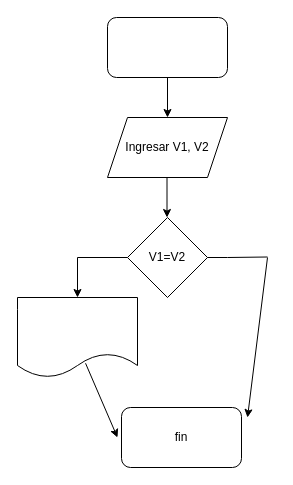
Some shapes in this 293 by 485 pixel diagram are drawn without their labels. The shapes that lost their labels are listed below. From the top down, each one's box as (x1, y1, x2, y2) in pixels, then its label:
(106, 16, 228, 78): Inicio
(16, 296, 138, 378): Son iguales
